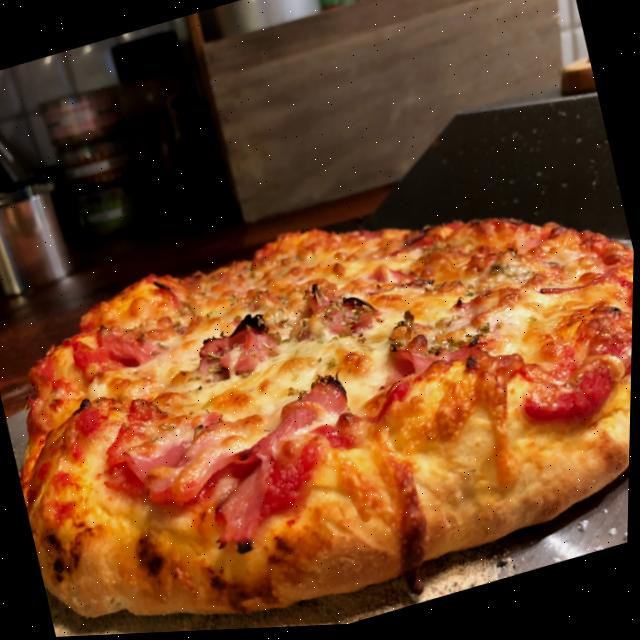pizza: (0, 146, 637, 640)
